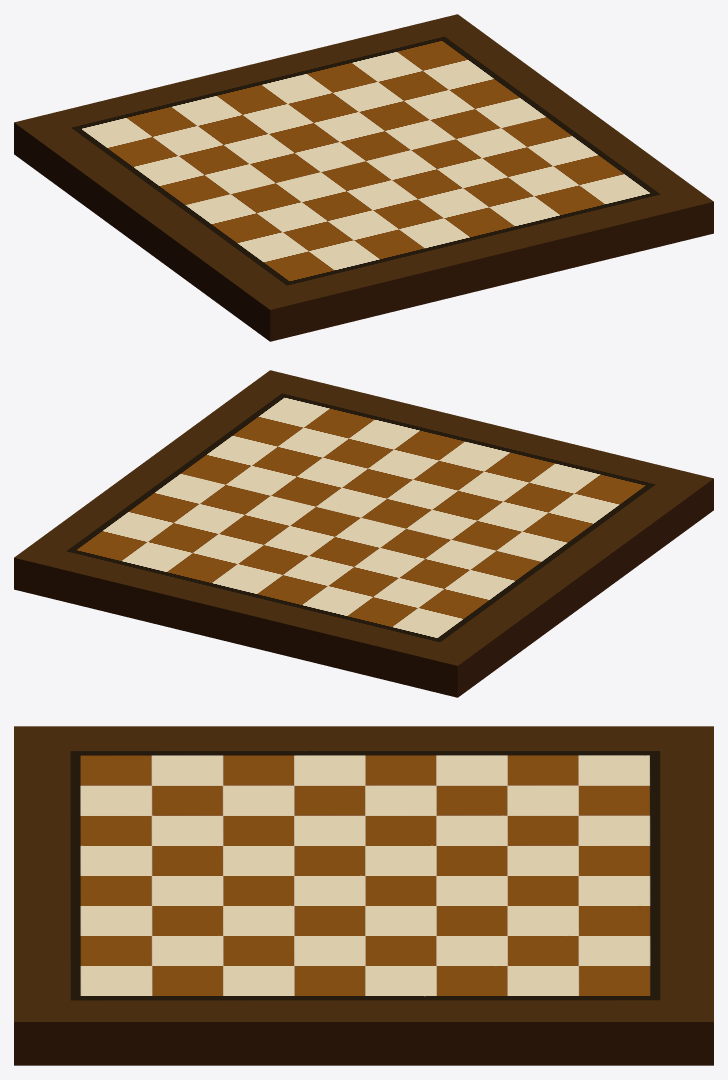
The model's file is chesssboard_small.dae.
3 views of the same model, one above another, from view 1: azimuth 30°, elevation 25°; view 2: azimuth 150°, elevation 25°; view 3: azimuth 270°, elevation 25° (orthographic). The views are drawn at different scales.
Parts seen in each view (by area): view 1: Cube; view 2: Cube; view 3: Cube.
Part boxes in pixels (x1,y1,x2,y2): Cube: (14, 14, 713, 341); Cube: (14, 370, 713, 697); Cube: (14, 726, 713, 1065).
Bounding box in the file's own units: 0.35 × 0.35 × 0.024.
Materials: 2 (1 with a texture image).
